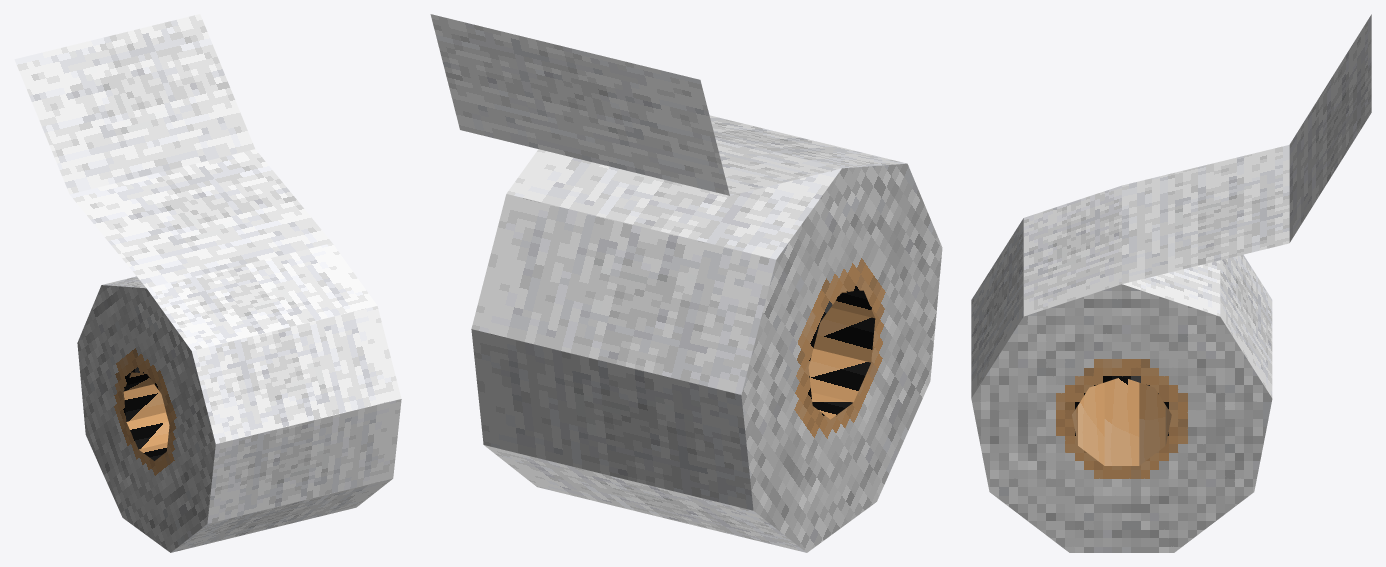
The picture shows the model from 3 angles, left to right: view 1: azimuth 30°, elevation 25°; view 2: azimuth 150°, elevation 25°; view 3: azimuth 270°, elevation 25°; orthographic projection. The views are drawn at different scales.
Visible parts, largest first — view 1: duct tape, flap; view 2: duct tape, flap; view 3: duct tape, flap.
Boxes of the visible parts, x1,y1,x2,y2 form: duct tape: (77,243,401,552); flap: (14,14,331,288); duct tape: (471,115,942,552); flap: (430,14,841,195); duct tape: (971,185,1272,552); flap: (1122,14,1371,283).
Bounding box in the file's own units: 0.1378 × 0.2568 × 0.2162.
Materials: 1 (1 with a texture image).
